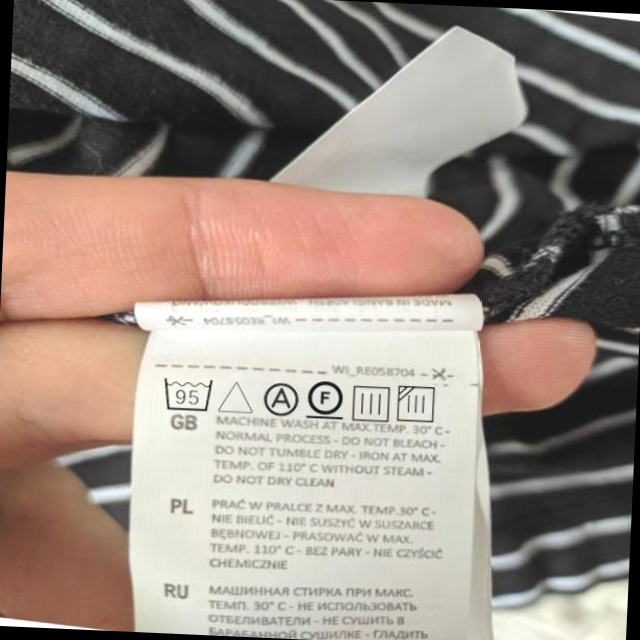95C: (161, 374, 216, 413)
bleach: (219, 376, 253, 417)
drip_dry: (349, 381, 393, 423)
drip_dry_in_shade: (396, 383, 441, 426)
dry_clean: (261, 380, 299, 417)
dry_clean_petrol_only: (307, 376, 345, 421)
